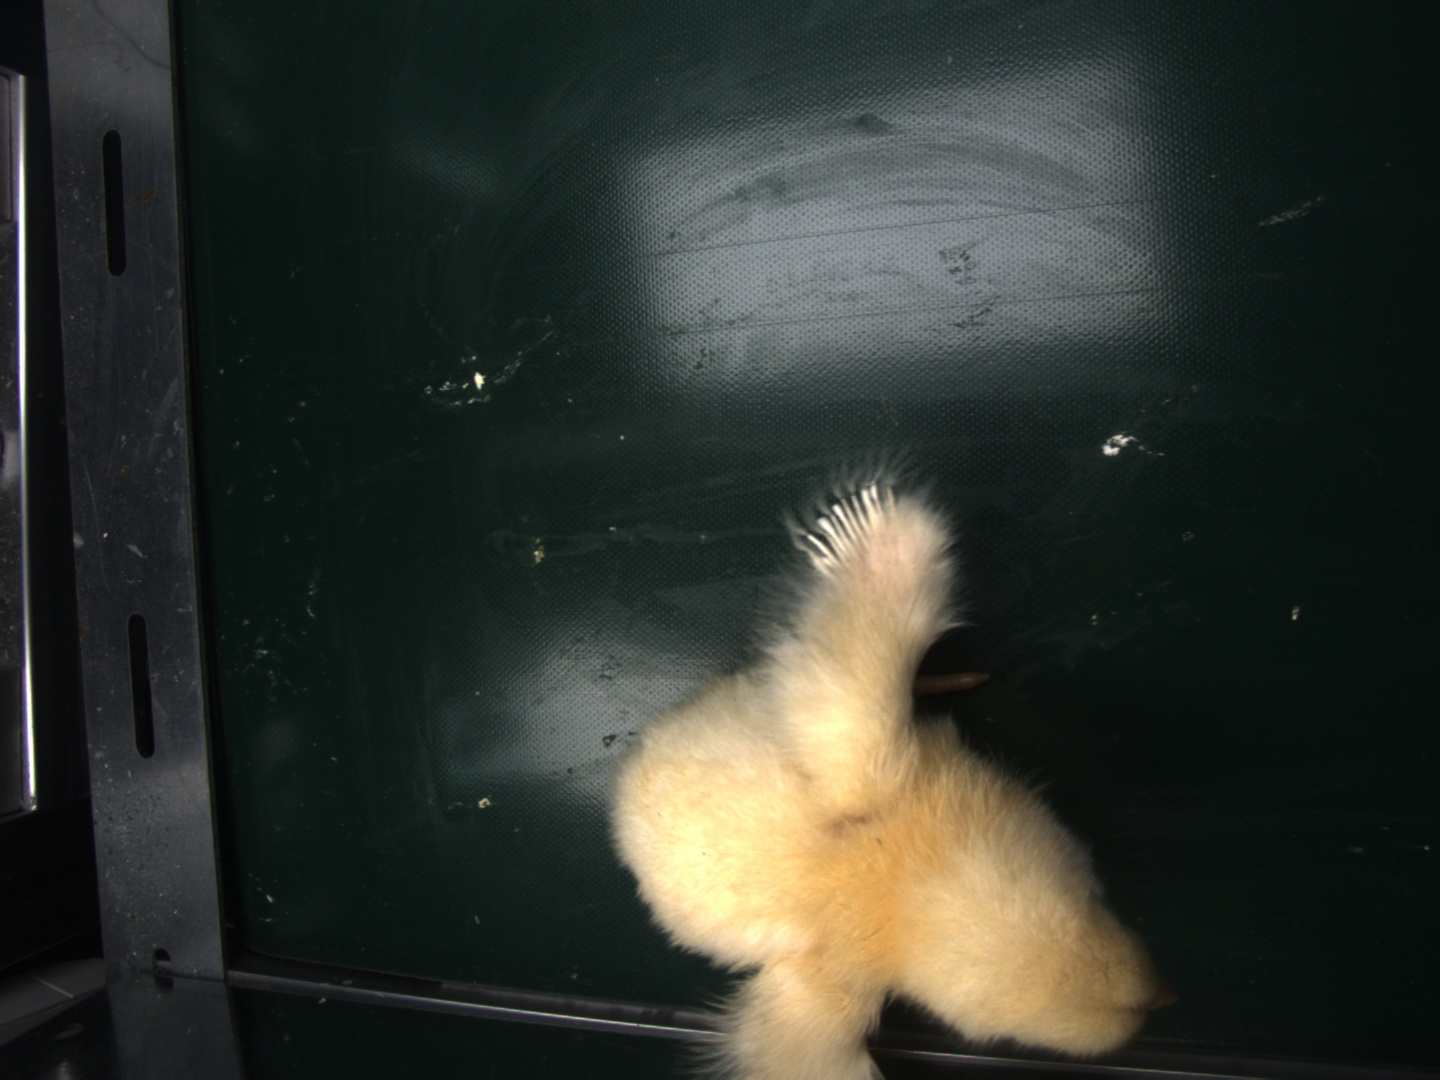male: (813, 491, 893, 573)
